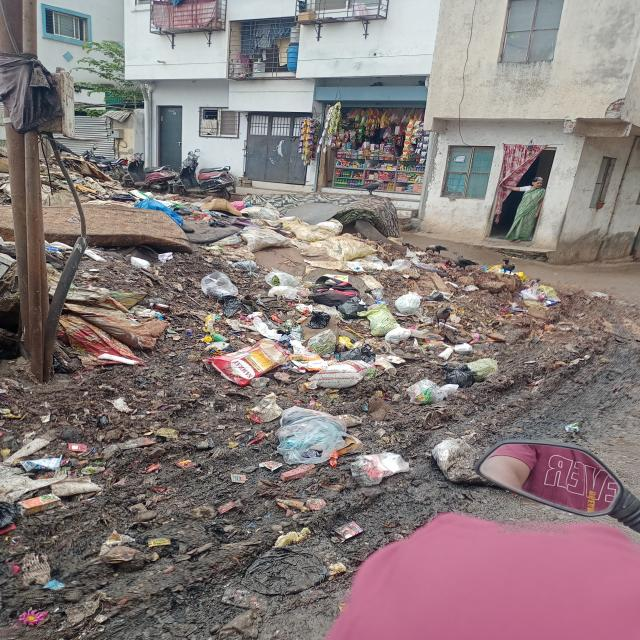garbage: (48, 193, 465, 477), (0, 440, 120, 541), (467, 258, 558, 358), (46, 151, 124, 202)
